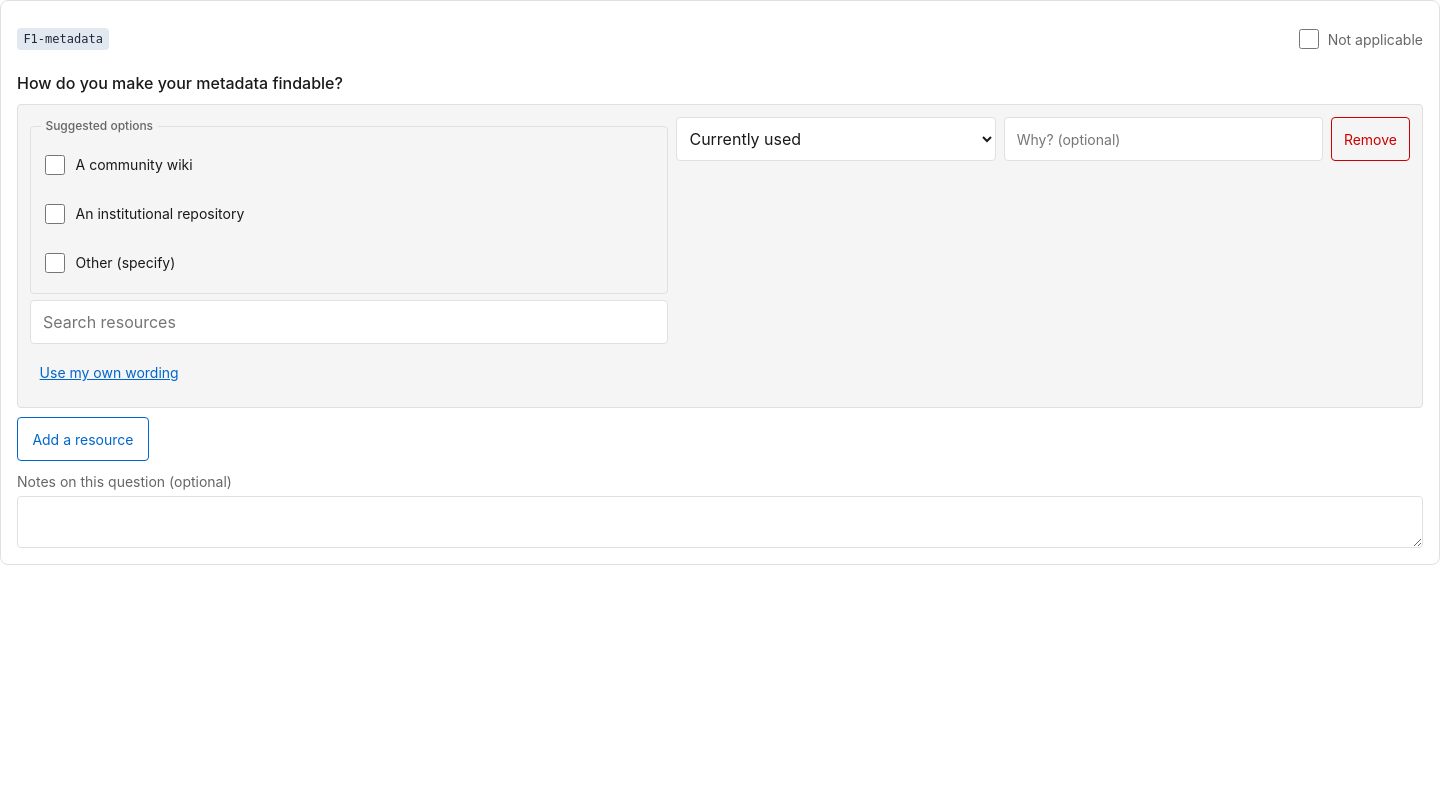
Test: QuestionCard.vue — suggested phrases and "Other" (spec 10) › adding "Other" text makes the declaration visible in place, without remounting
Click the checkbox labelled "Other (specify)".
click(55, 263)  # box [45,253,65,273]
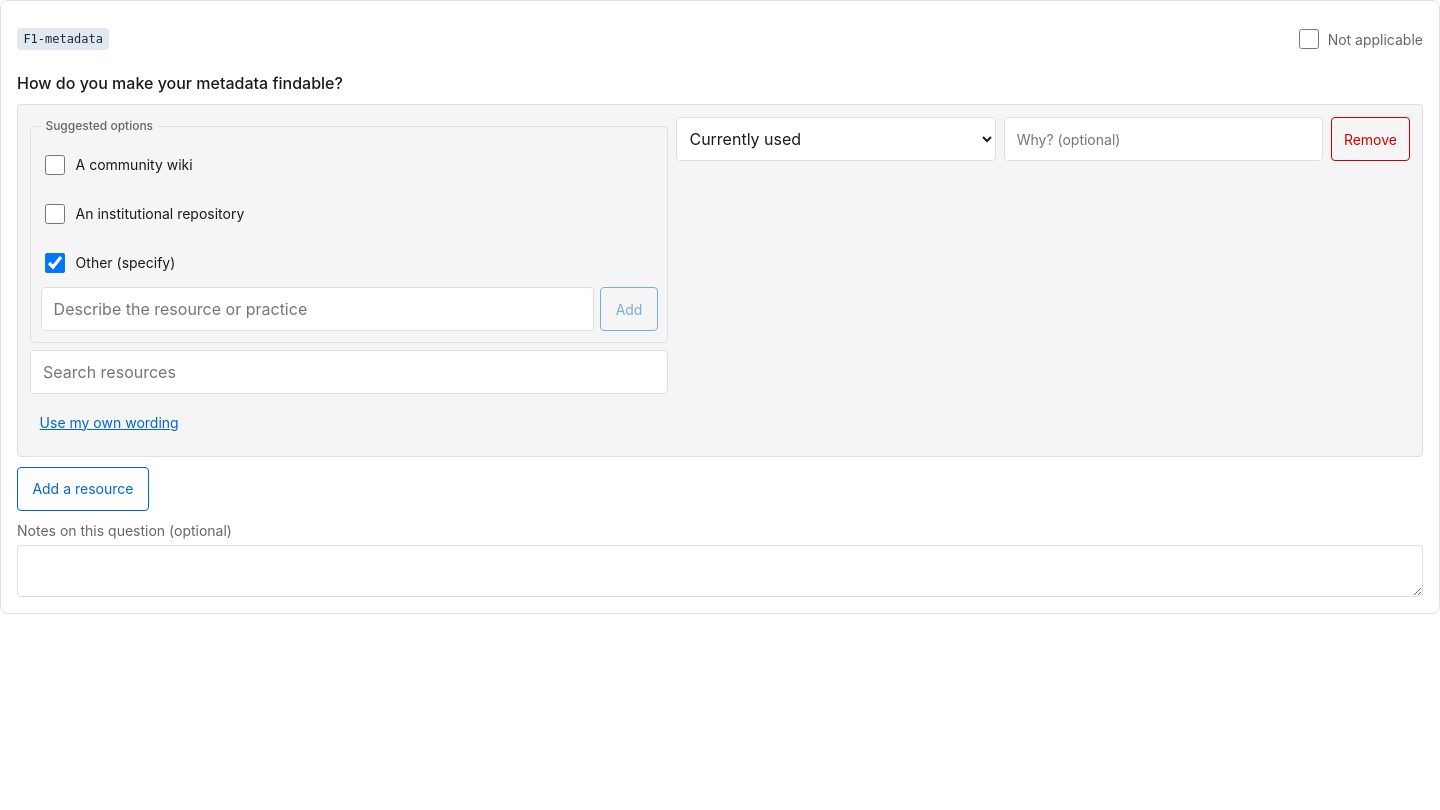
Type "Planilha compartilhada no Drive" into the field with placeholder "Describe the resource or practice".
click(317, 309); type("Planilha compartilhada no Drive")  # box [41,287,594,331]
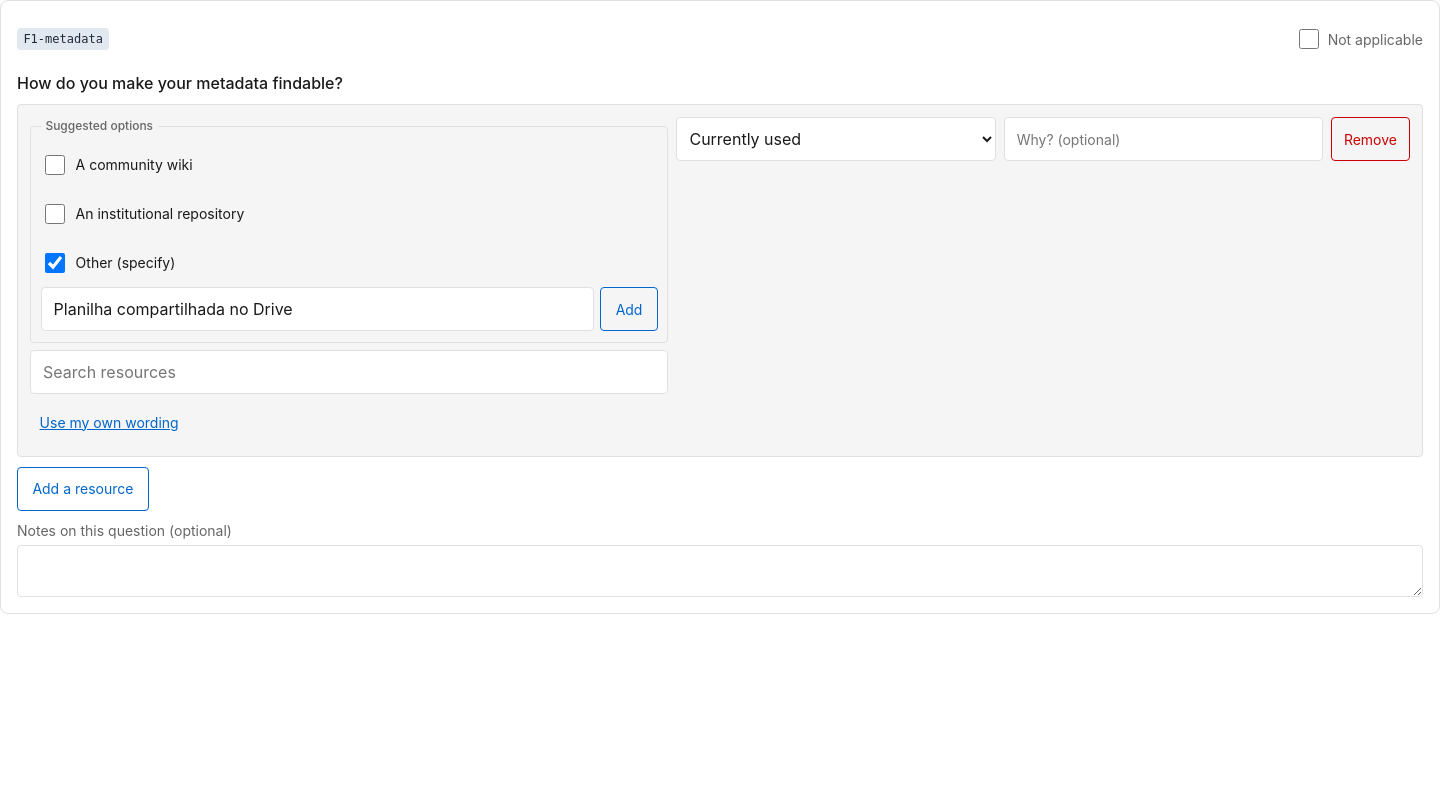
Press Enter in the 2nd field, box [41,287,594,331]
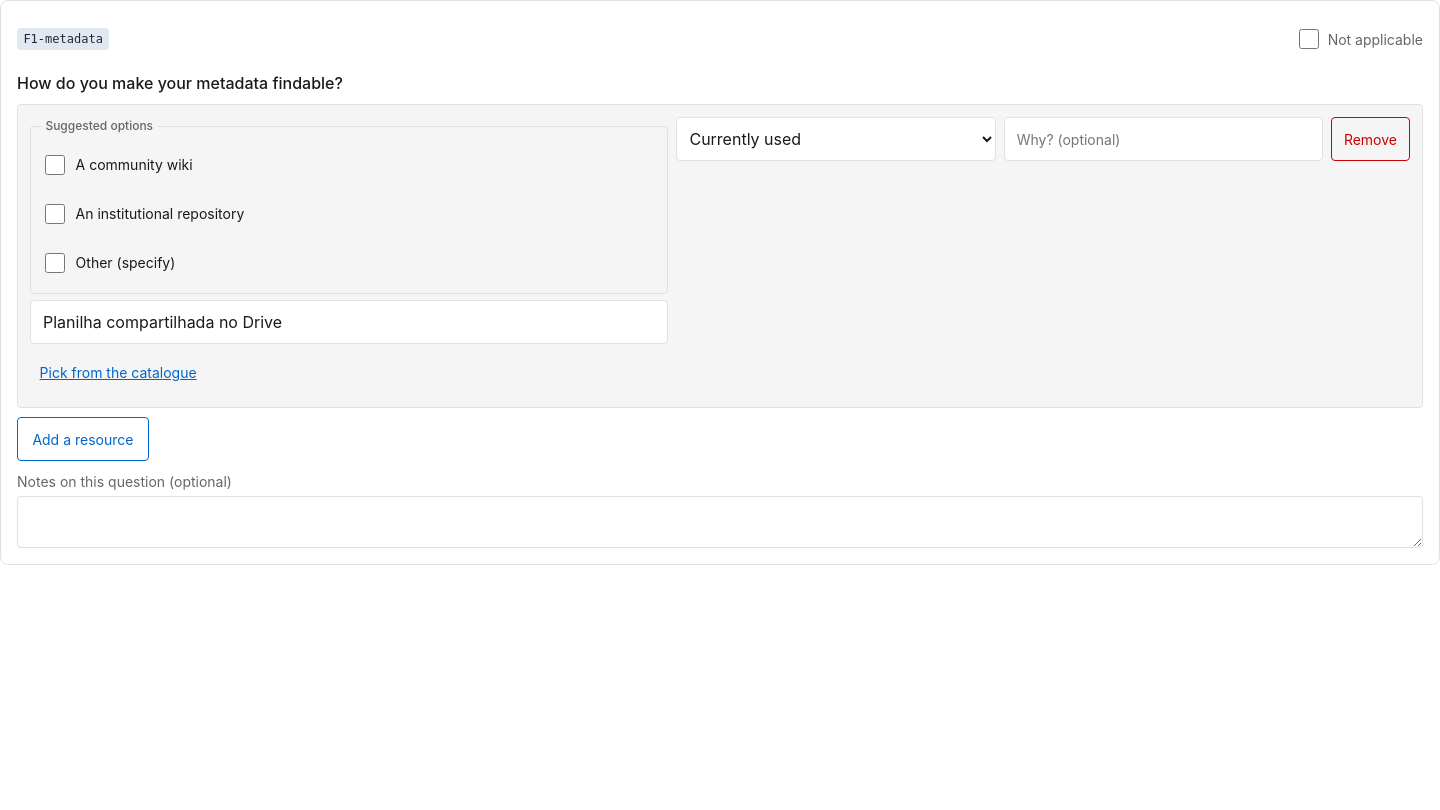
Expected: the 2nd field holds "Planilha compartilhada no Drive", [30,300,668,344]
